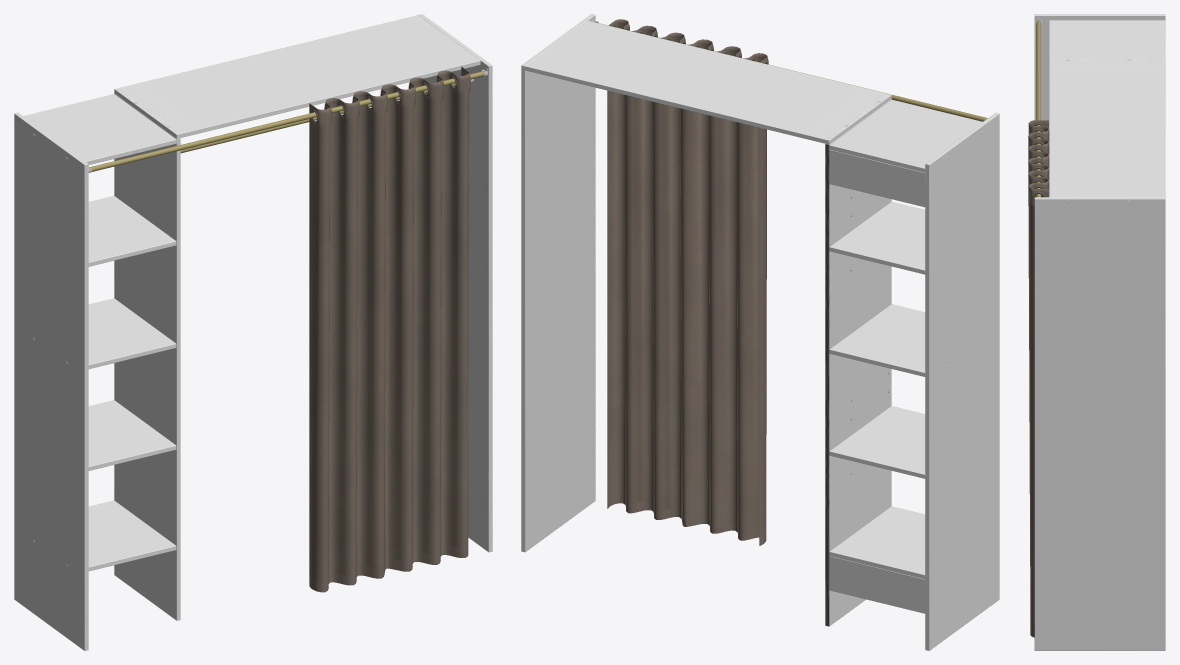
Rendered from abo-B07QTKCH2J.glb.
The picture shows the model from 3 angles, left to right: view 1: azimuth 30°, elevation 25°; view 2: azimuth 150°, elevation 25°; view 3: azimuth 270°, elevation 25°; orthographic projection. The views are drawn at different scales.
Size of the model in its own units: 1.6 by 1.82 by 0.5.
1 material, 1 textured.
